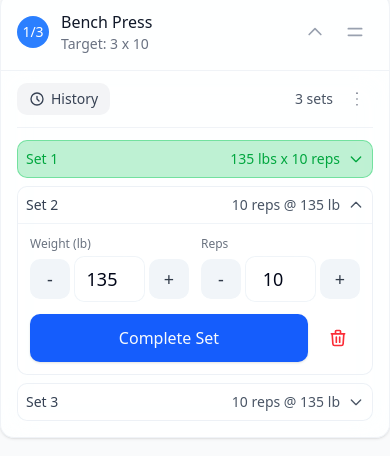
Test: ExerciseAccordion › completed set editing › should show Edit button for completed sets
Note: Click set header to expand it
Click the button "Set 1 135 lbs x 10 reps": {"x": 324, "y": 158} [18,141,372,177]
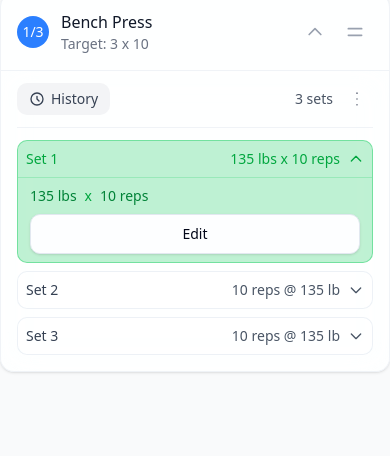
Check: the button "Edit" is shown, box [30,214,360,254]
